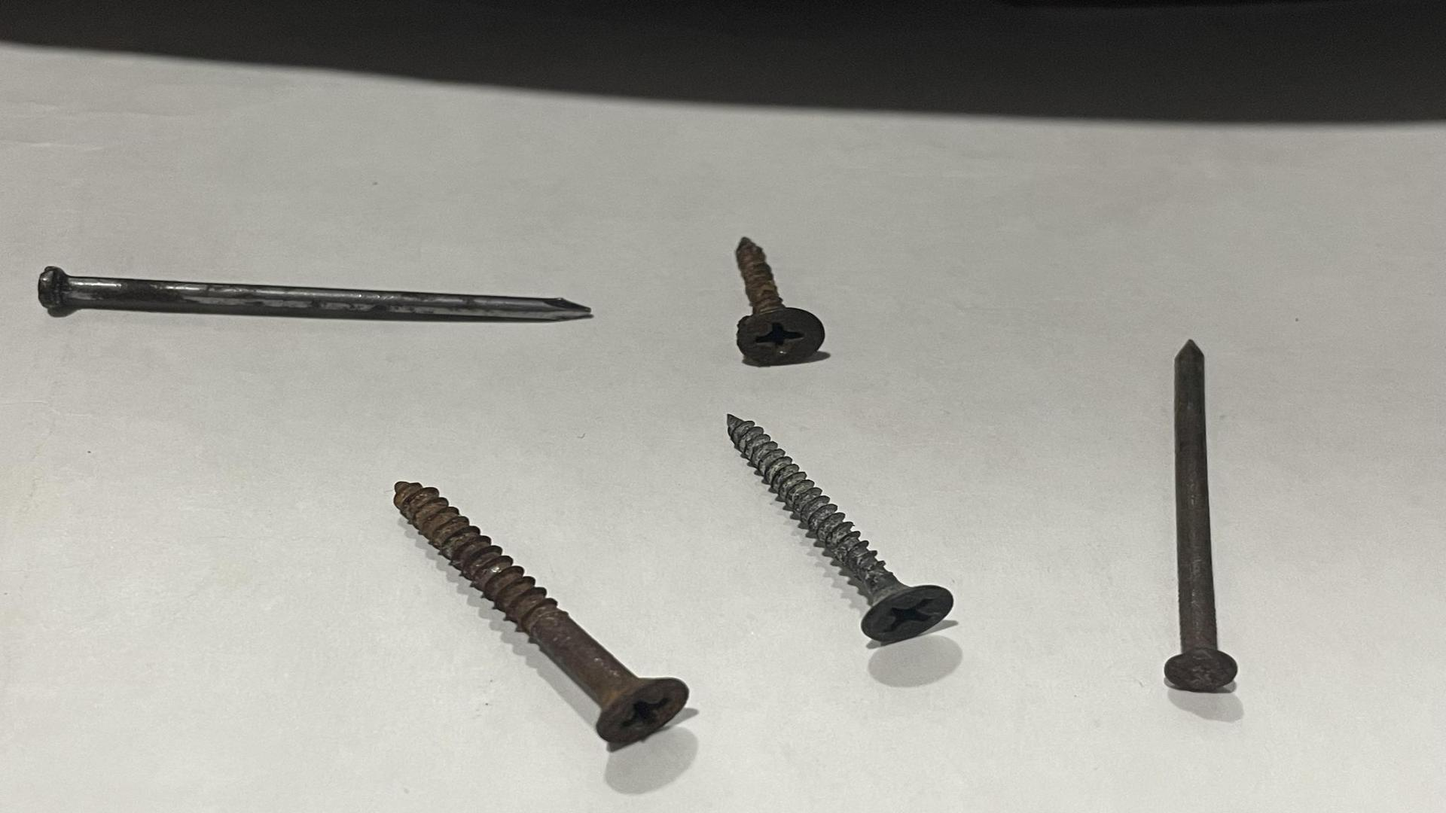nail: (21, 240, 630, 355), (1137, 324, 1282, 726)
screw: (377, 453, 710, 756), (686, 397, 988, 684), (702, 210, 834, 377)
